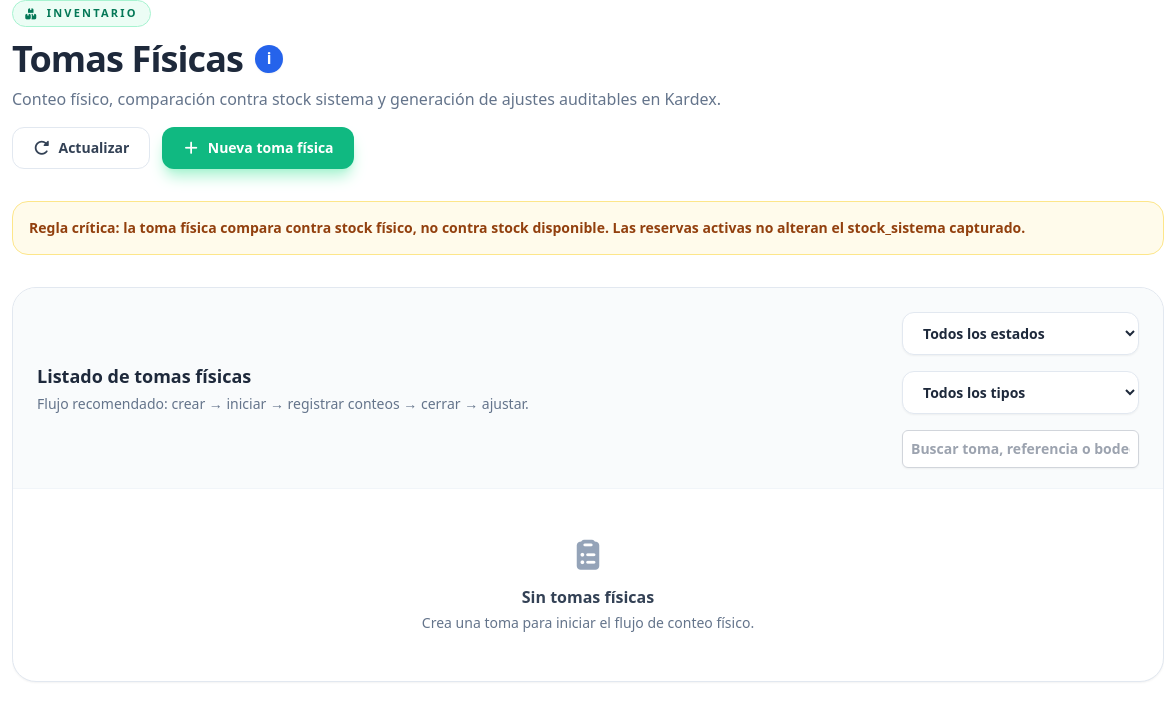
Test: TomasFisicasInventario (vista) › muestra el formulario de creación al hacer clic en "Nueva toma física"
This screenshot has width=1164, height=705.
Click the button "Nueva toma física" at [258, 148], box [162,127,354,169]
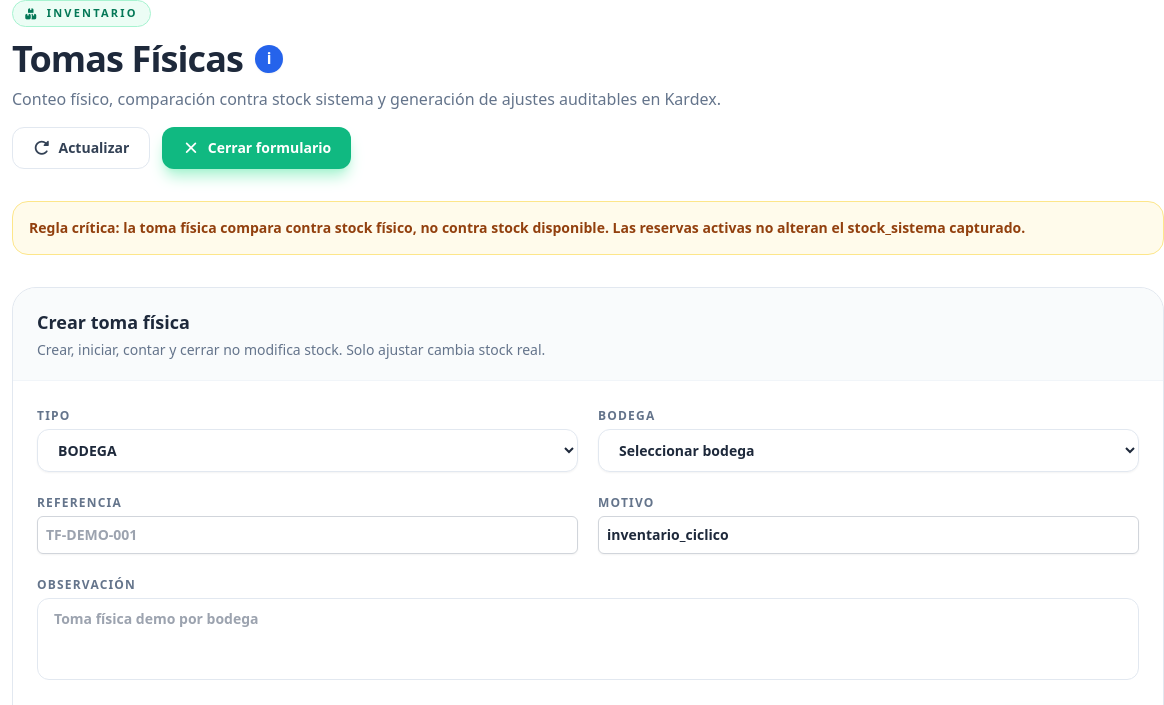
Expected: the heading "Crear toma física" is shown, [37,310,190,334]
